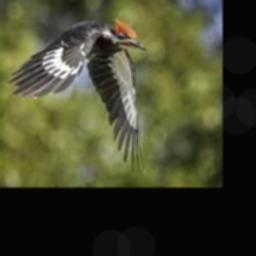Woodpecker: (8, 17, 146, 174)
